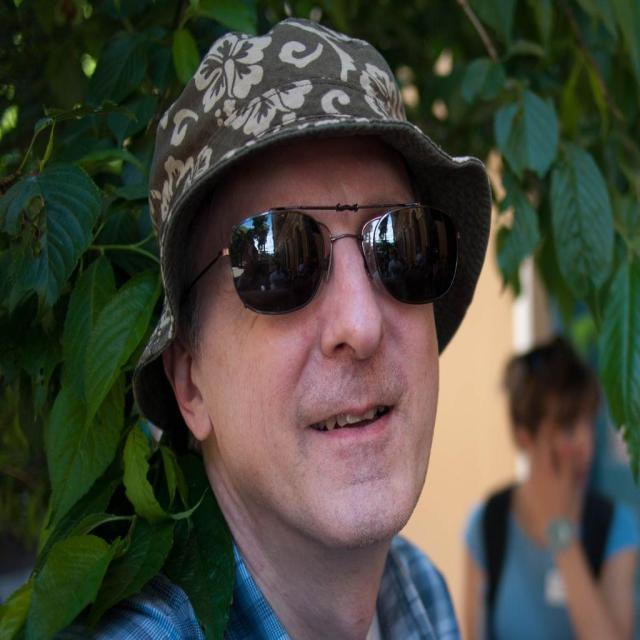Hat: (130, 16, 492, 442)
